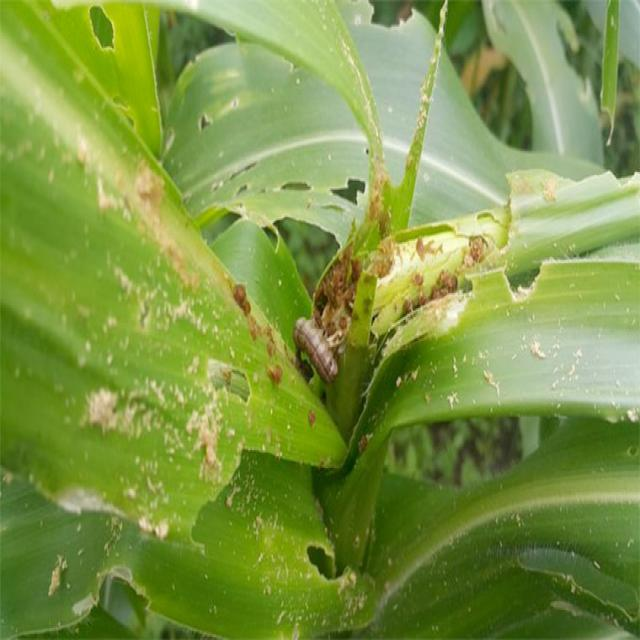Fall-armyworm: (290, 304, 345, 399)
